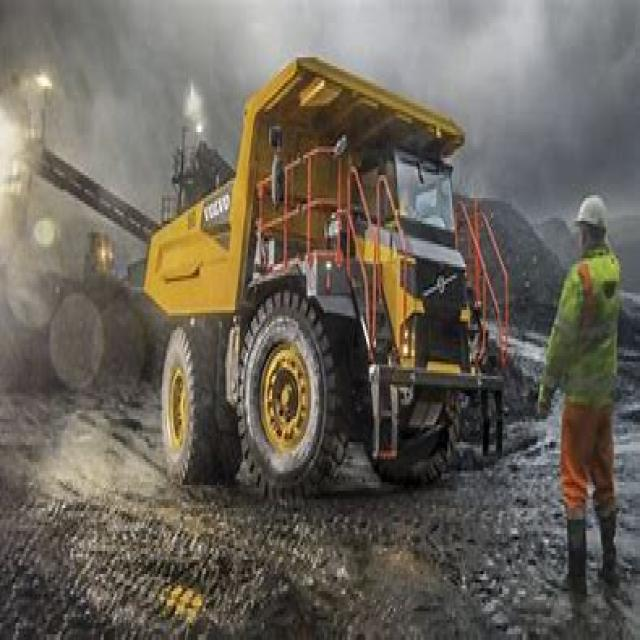dump_truck: (139, 46, 496, 514)
